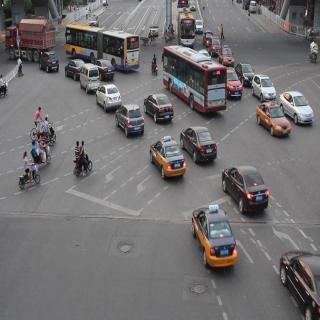BigCar: (157, 42, 230, 116), (63, 18, 143, 78), (0, 20, 62, 68)
